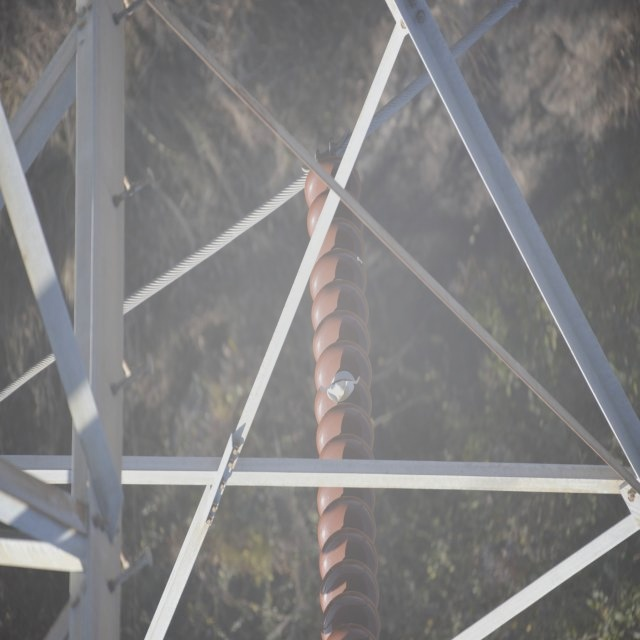broken: (319, 377, 363, 402)
insulator: (303, 158, 379, 640)
